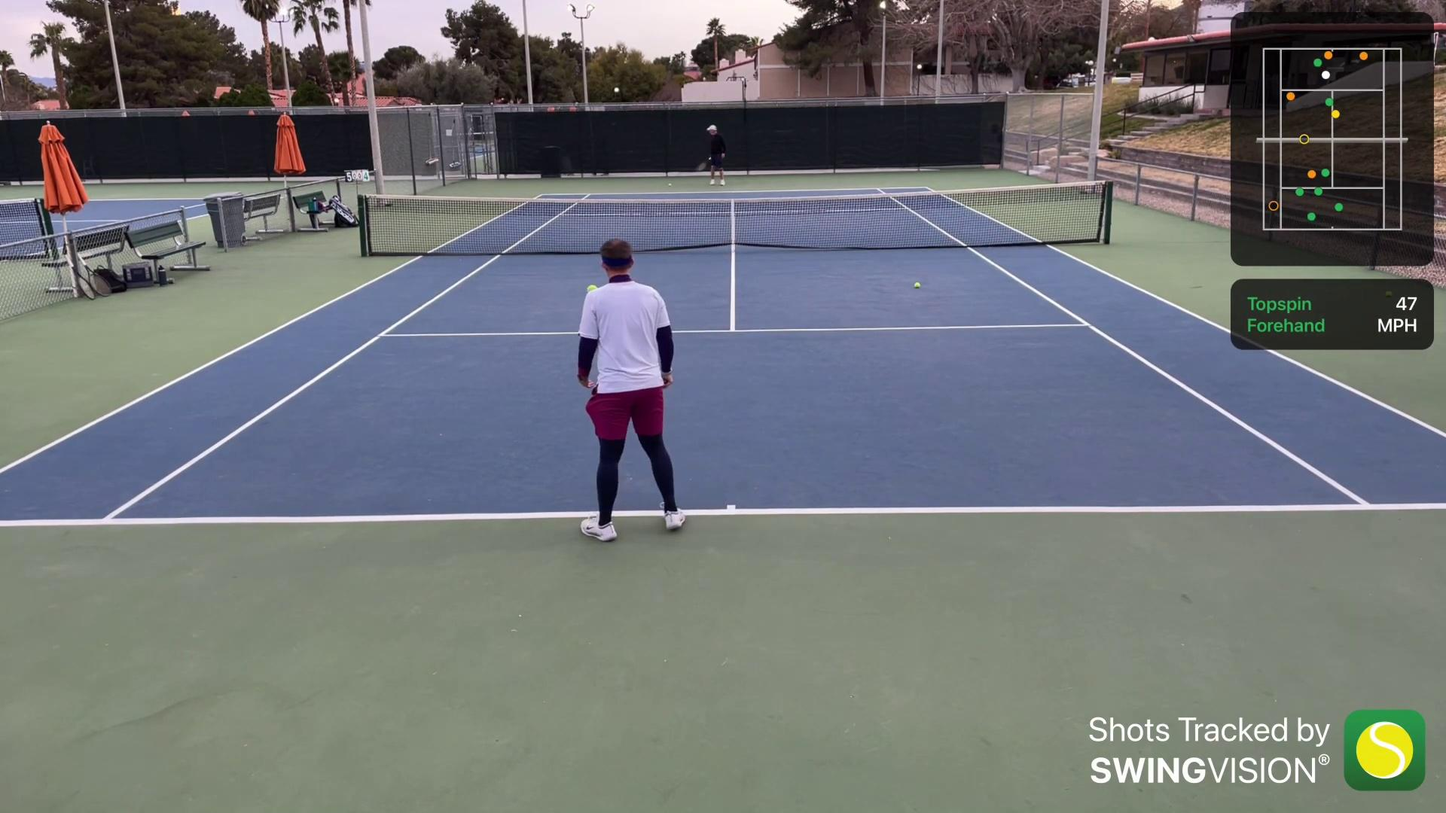ball: (586, 283, 599, 294), (913, 282, 923, 291), (665, 182, 673, 190)
